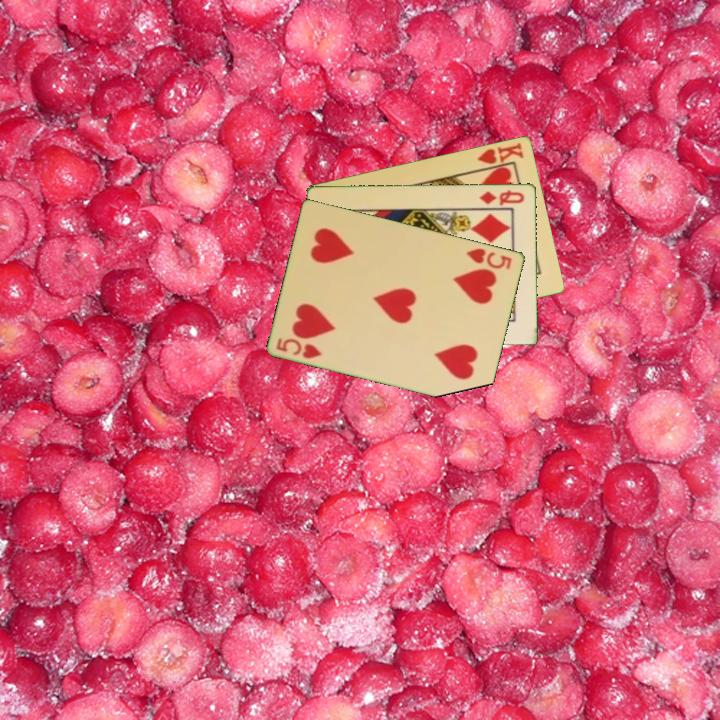5h: (463, 244, 515, 272), (273, 334, 325, 362)
Kh: (474, 139, 527, 173)
Qd: (476, 186, 527, 208)
